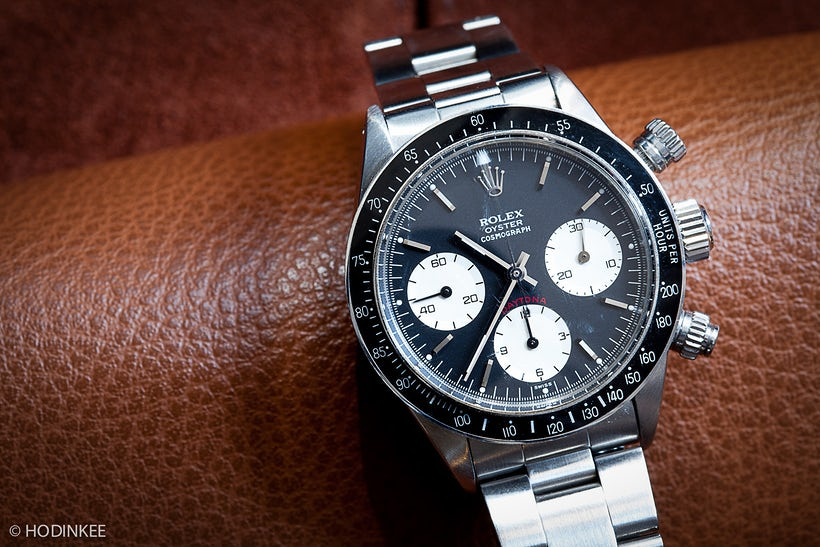clock: (377, 146, 655, 415)
